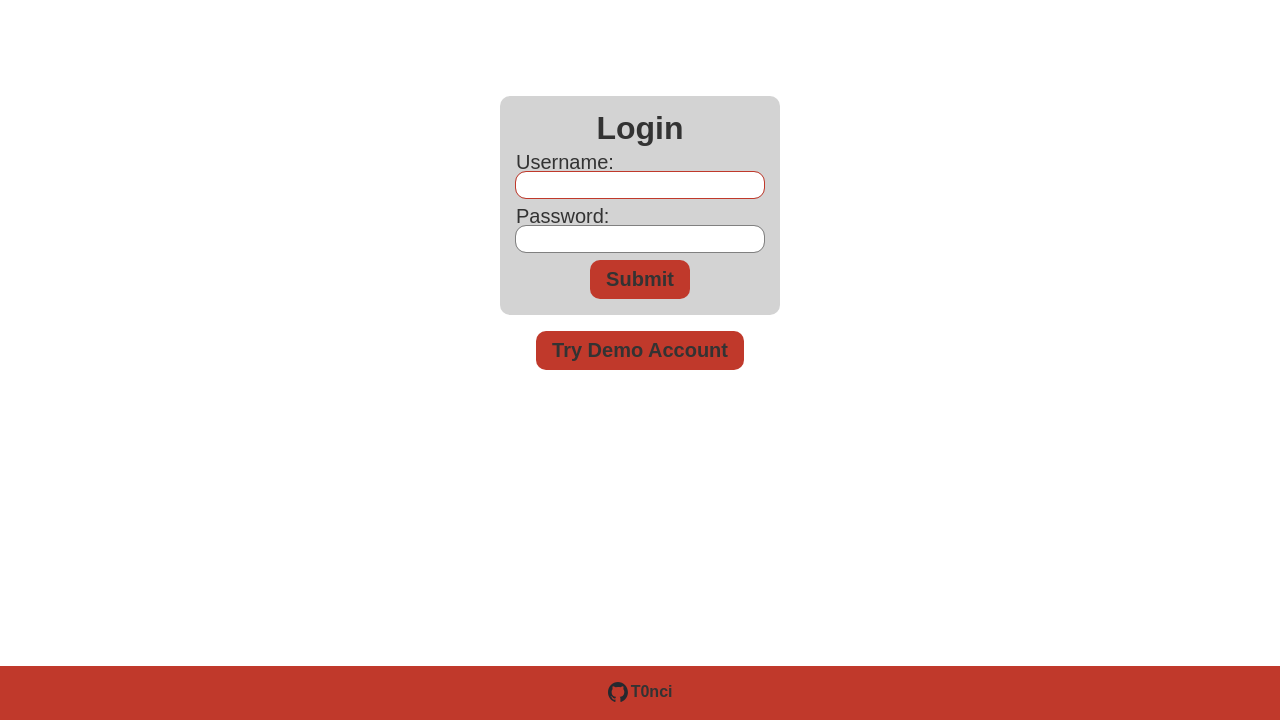
Test case: Login Component › shows errors when something in fetch fails
This screenshot has width=1280, height=720.
In the field: point(640, 185) [516, 172, 764, 198], type "username"
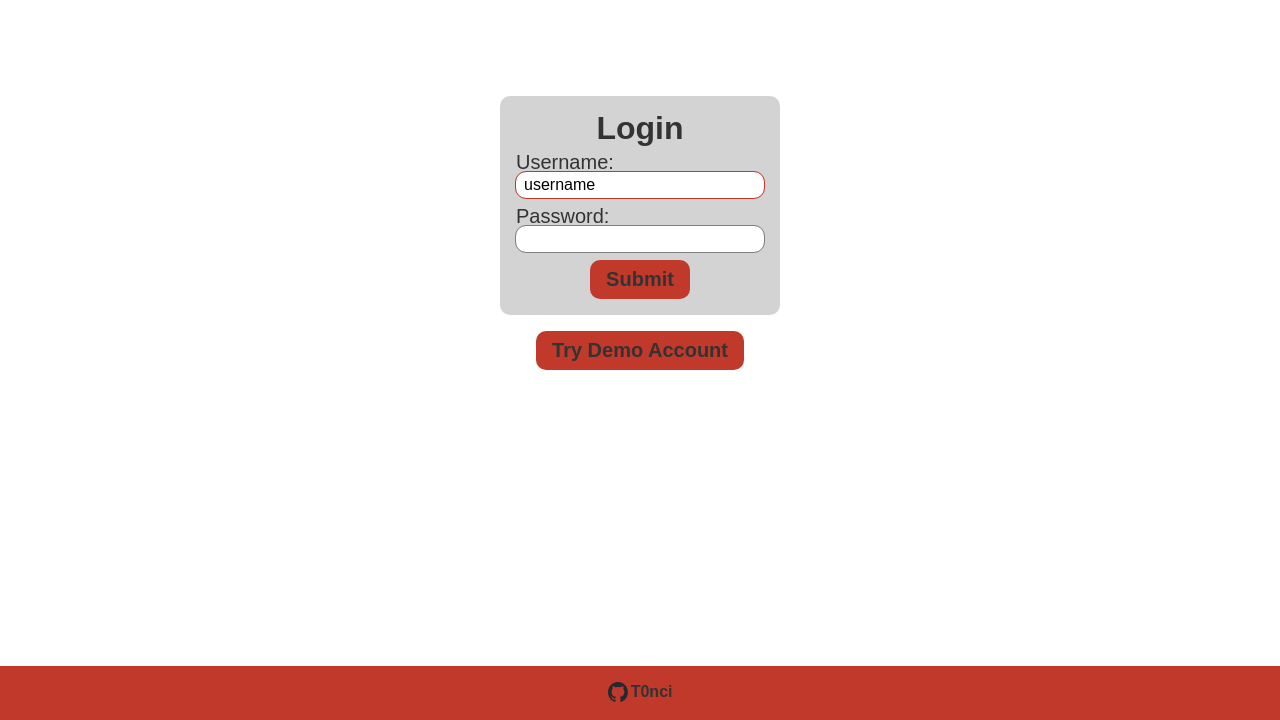
In the password field with test id "password": point(640, 239) [516, 226, 764, 252], type "password"
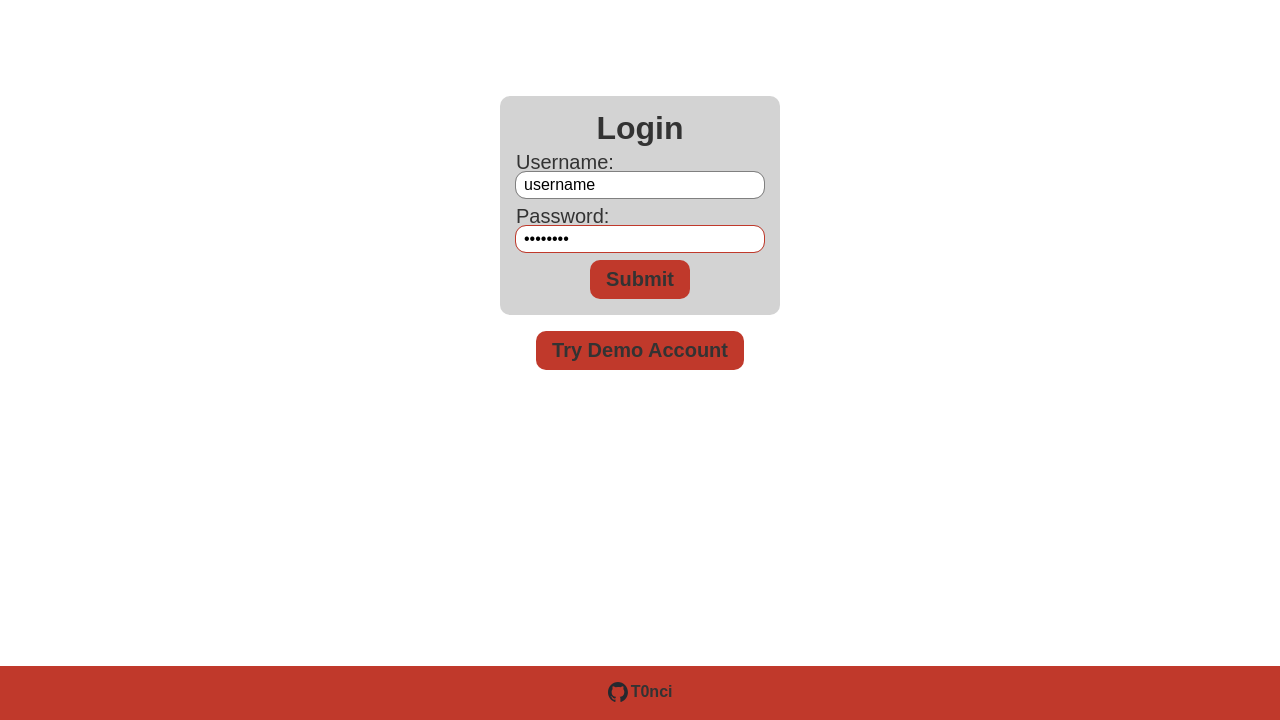
Click the button "Submit": point(640, 280) [590, 260, 690, 299]
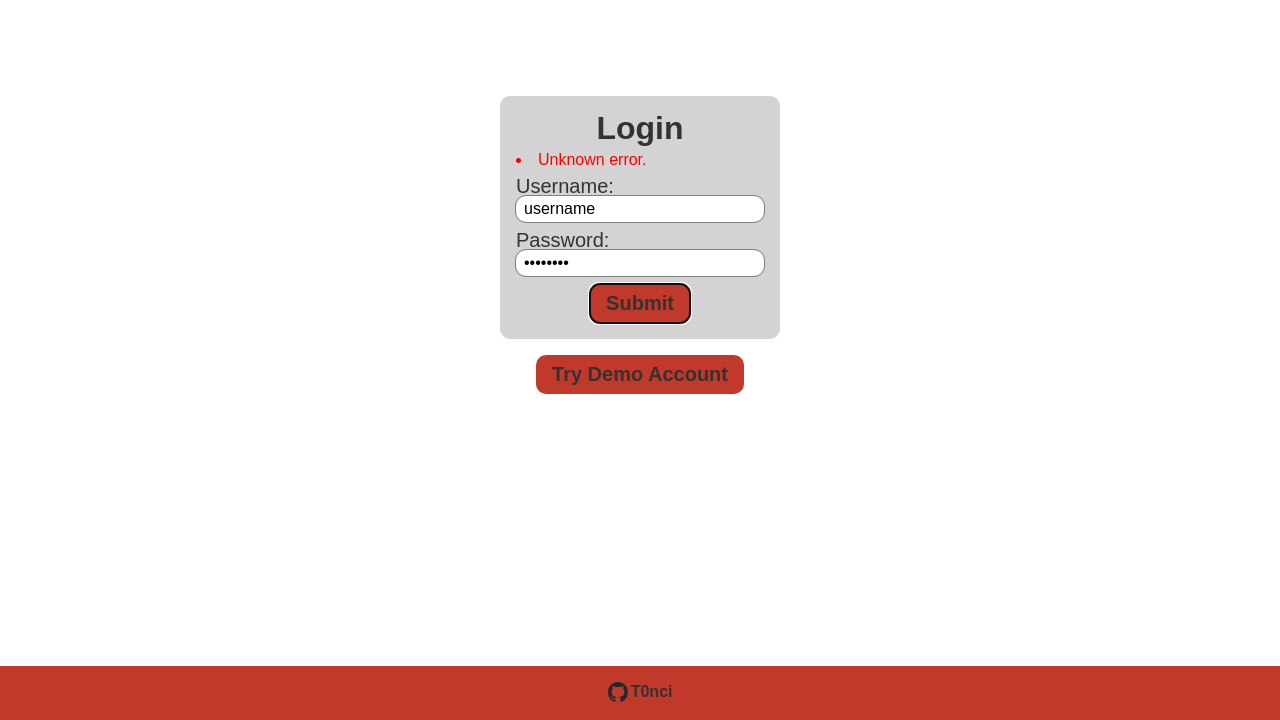
Expected: the list item reads "Unknown error.", [538, 151, 646, 168]
